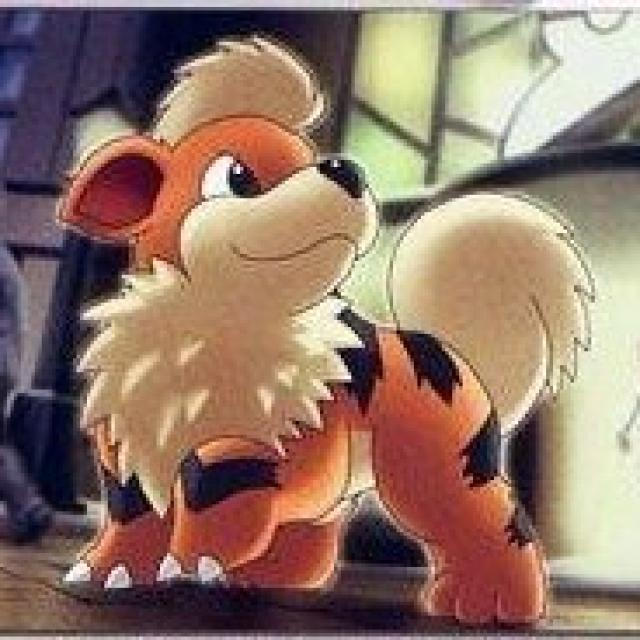Growlithe: (50, 38, 617, 640)
